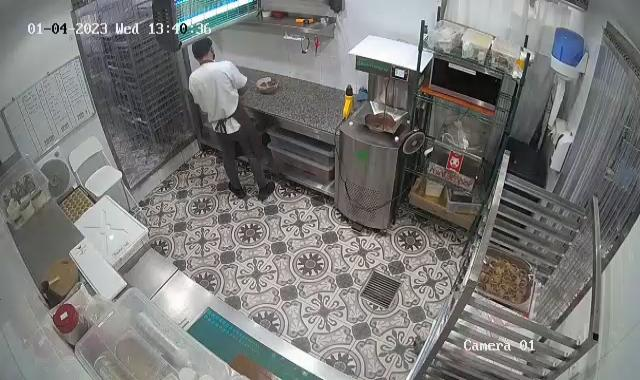no_hairnet: (190, 37, 214, 62)
